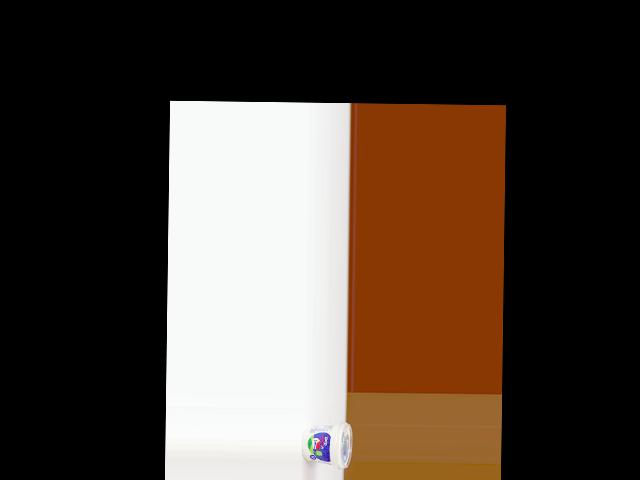cotage: (301, 419, 352, 469)
